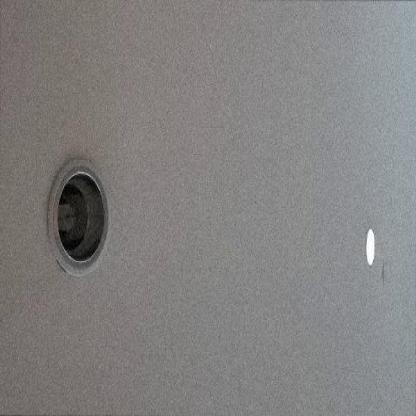light_off: (36, 135, 120, 293)
